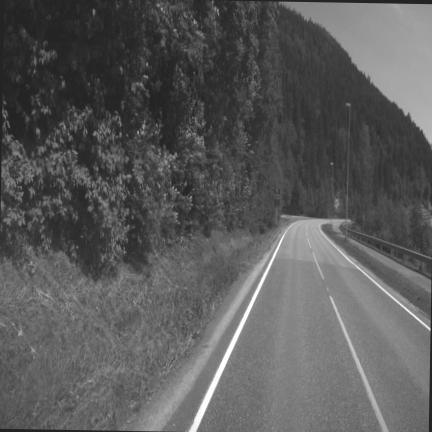Road: (129, 220, 430, 431)
